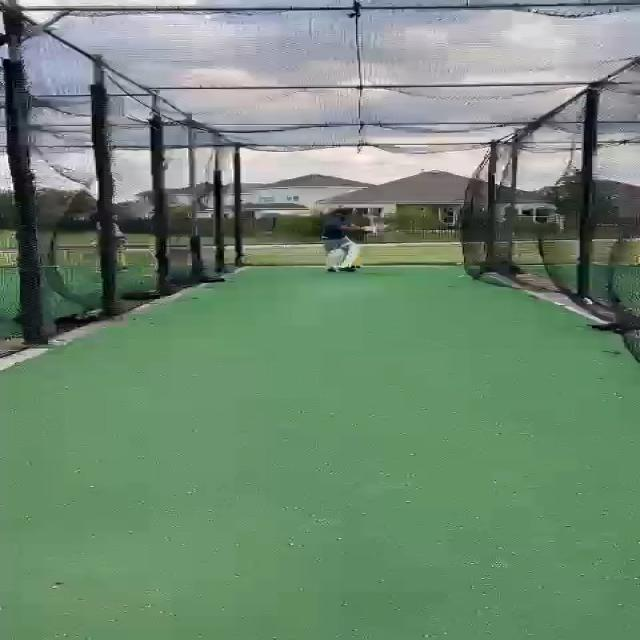batsman: (317, 205, 378, 274)
